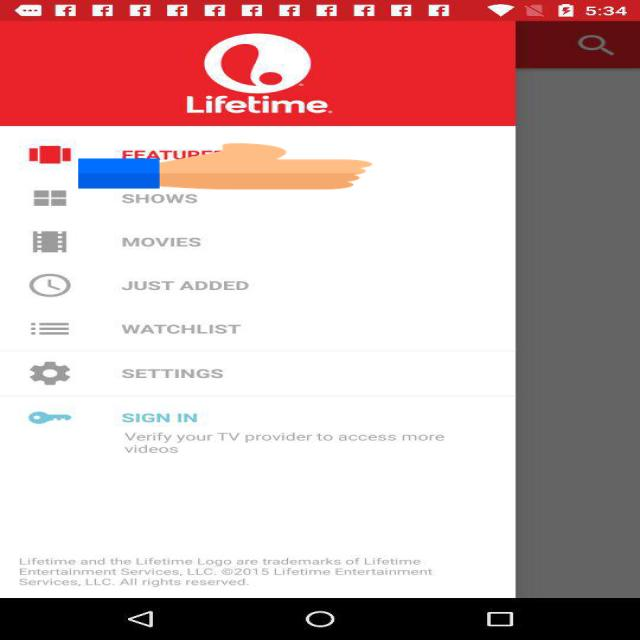privacy zuckering: (78, 142, 372, 191)
